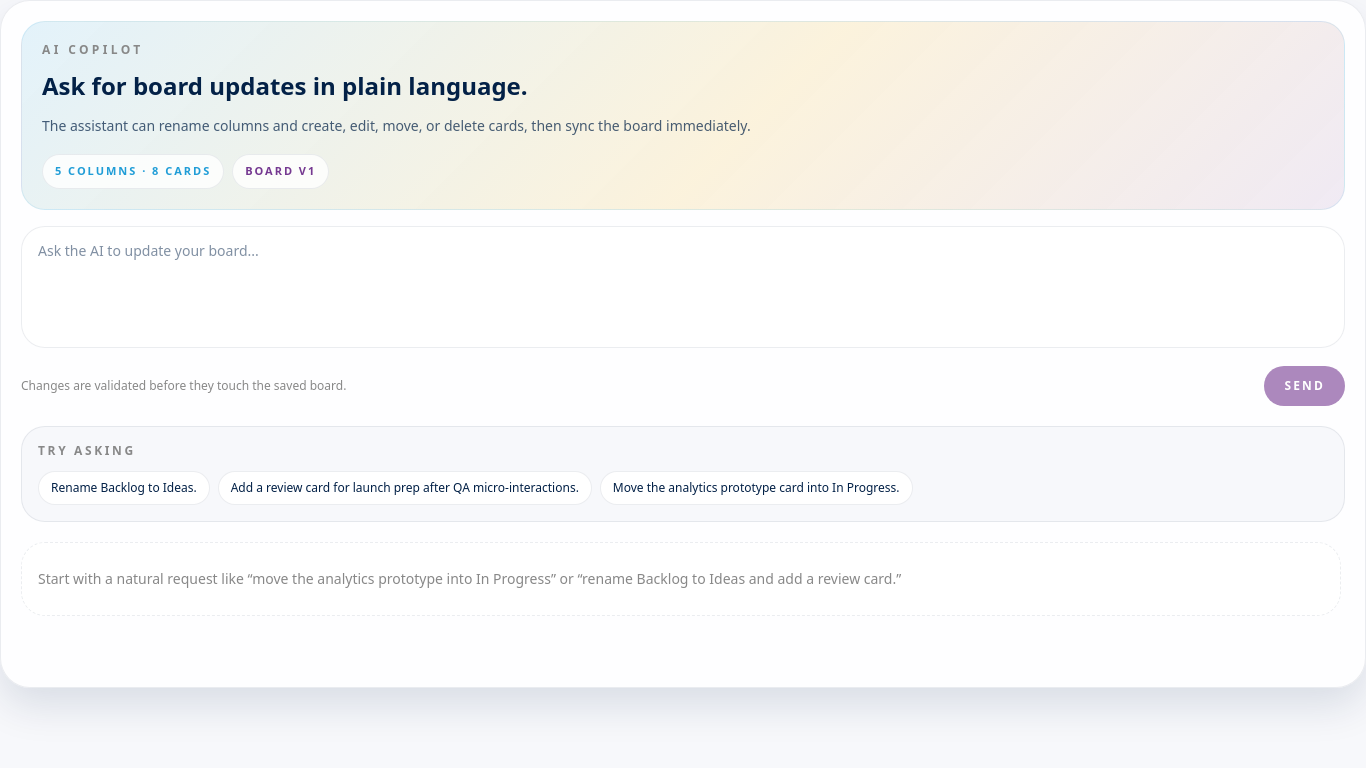
Test case: AIChatSidebar › stops showing Sending when the AI request times out
The image size is (1366, 768).
Type "Rename backlog to Ideas." into the text box named "ask the ai assistant". click: (683, 286)
box: [21,226,1345,348]
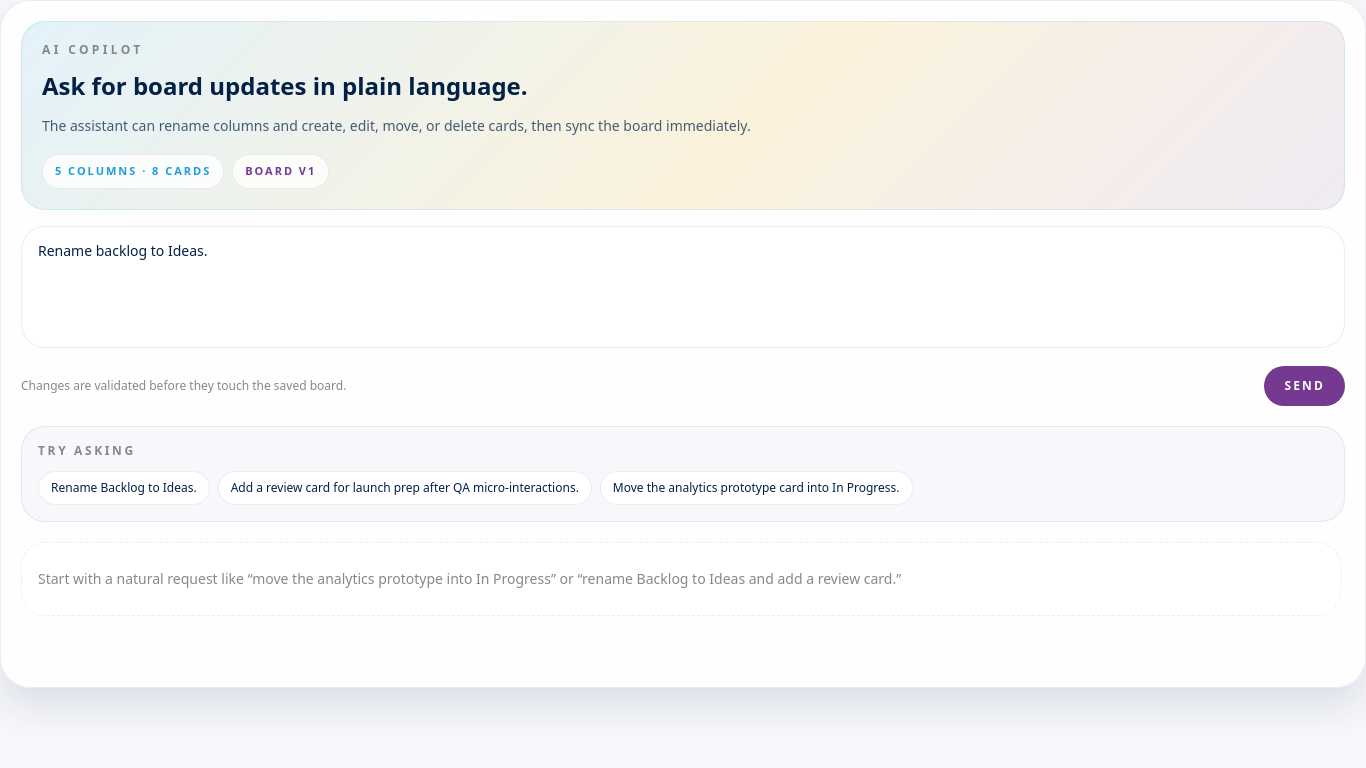
Click the button "Send". click: (1305, 386)
box: [1264,366,1345,406]
Wait 45000 ms
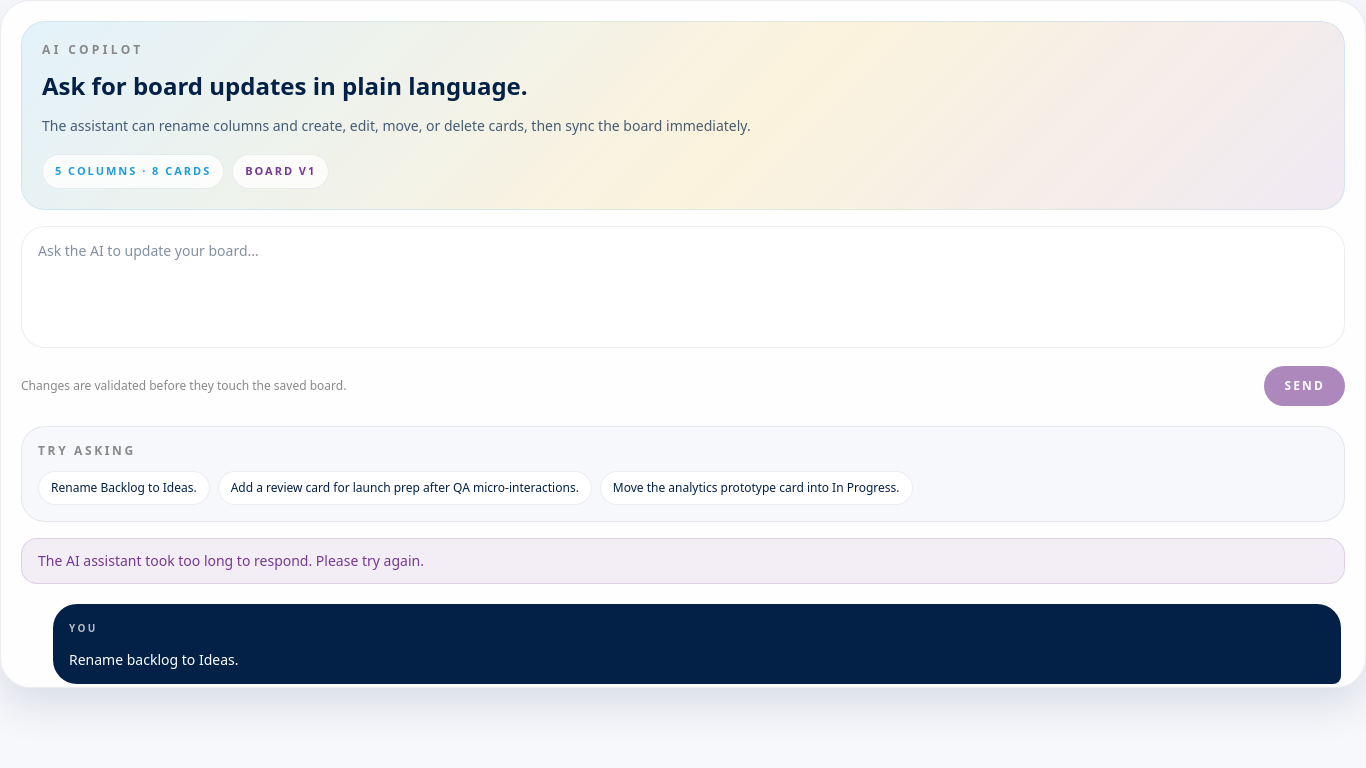
Result: the button named "sending" is disabled at [1264,366,1345,406]
Result: the message reads "The AI assistant took too long to respond. Please try again." at [38,550,424,570]
Result: the button "Send" is disabled at [1264,366,1345,406]
